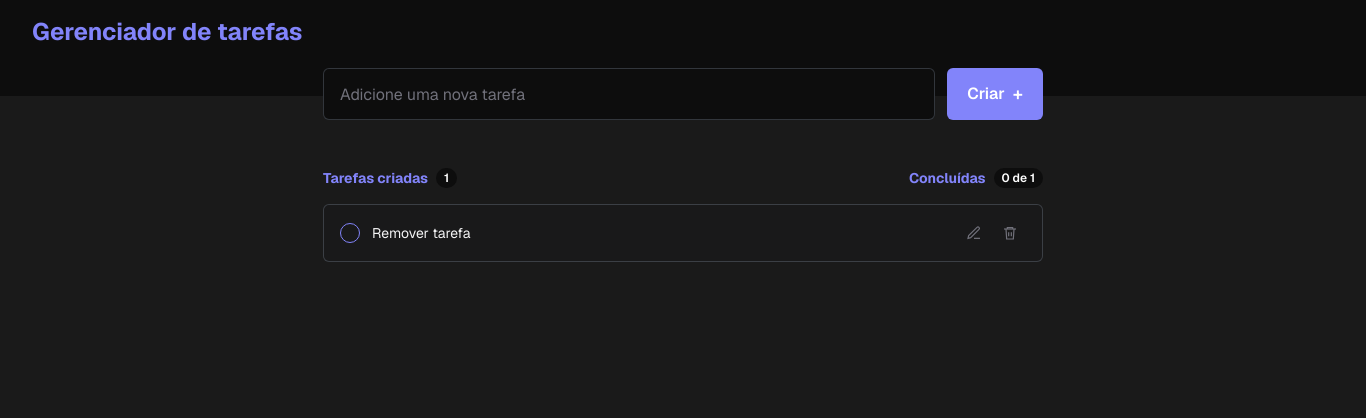
TasksHome › Deve excluir uma tarefa
This screenshot has width=1366, height=418.
Check: the text "Remover tarefa" is shown, box [372,224,470,242]
Click the button named "excluir tarefa remover tarefa" at (1010, 233), box [994,217,1026,249]
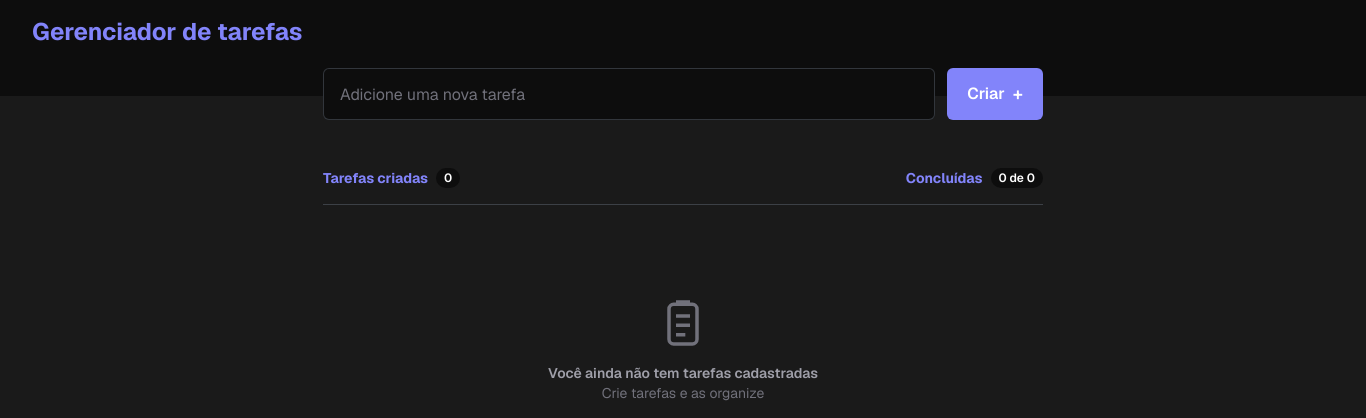
Check: the text "Remover tarefa" is gone
Check: the text "Você ainda não tem tarefas cadastradas" is shown, box [548,362,818,382]
